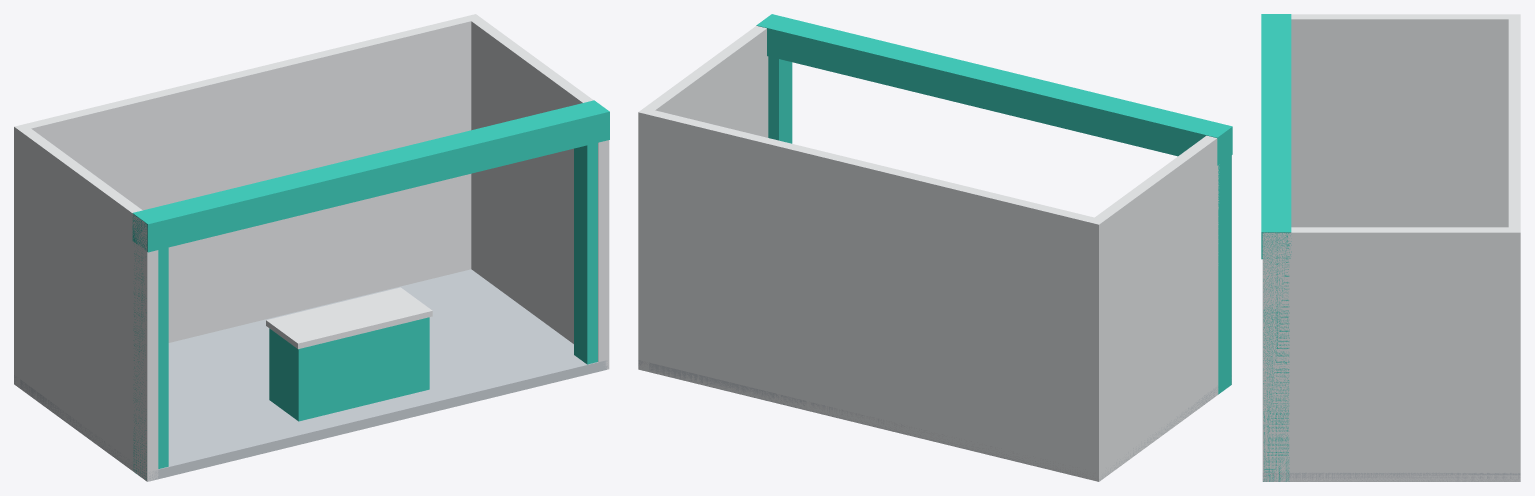
3 renders of one model, left to right at view 1: azimuth 30°, elevation 25°; view 2: azimuth 150°, elevation 25°; view 3: azimuth 270°, elevation 25°, orthographic. The views are drawn at different scales.
Parts seen in each view (by area): view 1: Exhibition Booth Concept; view 2: Exhibition Booth Concept; view 3: Exhibition Booth Concept.
Part boxes in pixels (x1,y1,x2,y2): Exhibition Booth Concept: (14, 14, 609, 481); Exhibition Booth Concept: (638, 14, 1232, 481); Exhibition Booth Concept: (1261, 14, 1520, 481).
Bounding box in the file's own units: 6 × 3.2 × 3.01.
